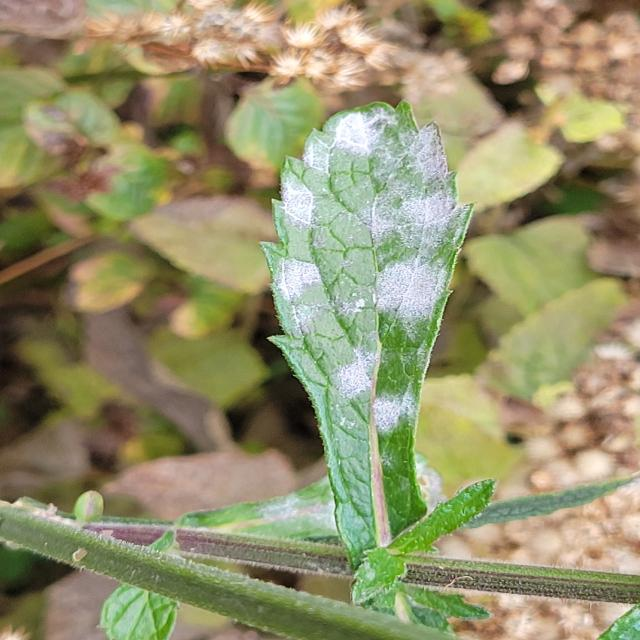powdery_mildew: (264, 102, 472, 565)
